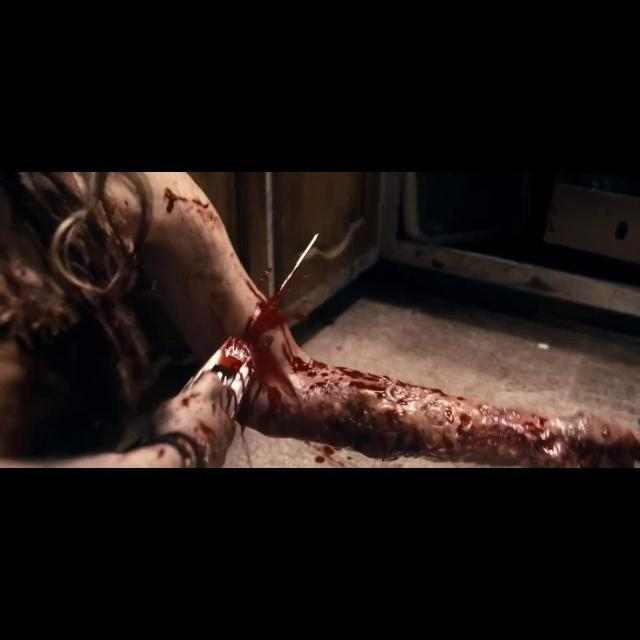blood: (152, 263, 640, 468), (164, 188, 224, 231)
